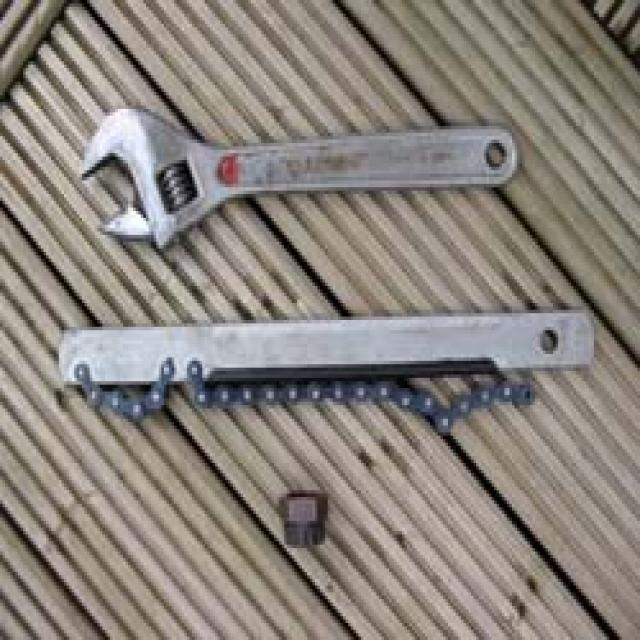wrench: (73, 92, 518, 258)
